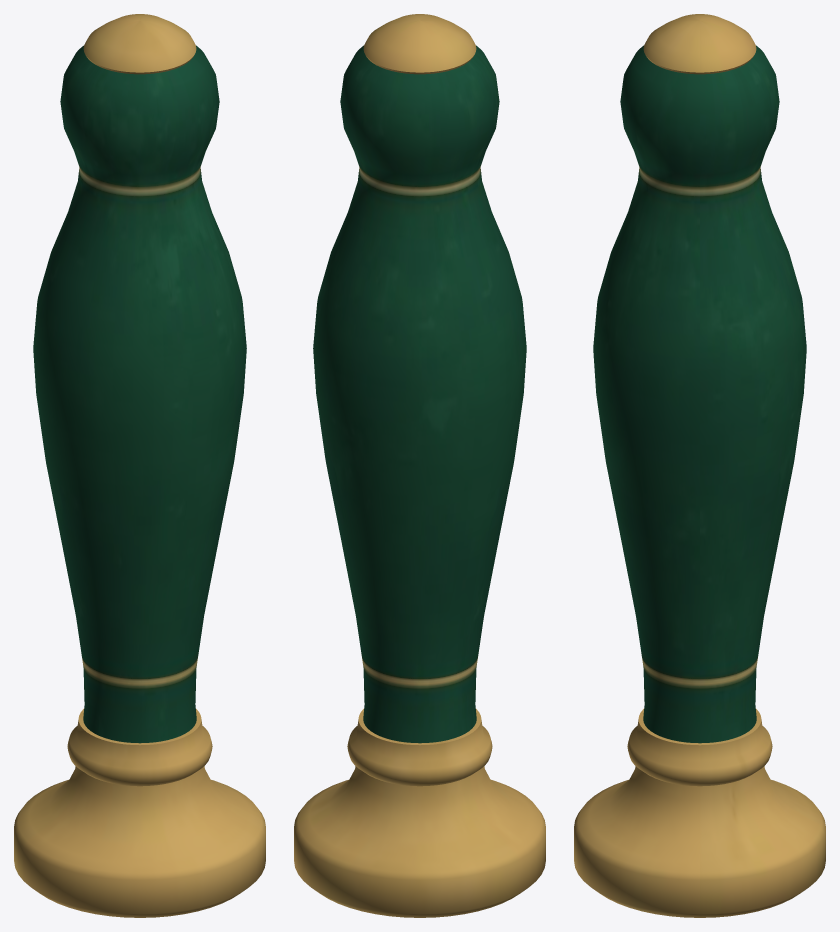
The model's file is SealStamp.glb.
3 renders of one model, left to right at view 1: azimuth 30°, elevation 25°; view 2: azimuth 150°, elevation 25°; view 3: azimuth 270°, elevation 25°, orthographic.
Visible parts, largest first — view 1: SealStamp_Handle, SealStamp_Brass; view 2: SealStamp_Handle, SealStamp_Brass; view 3: SealStamp_Handle, SealStamp_Brass.
Part boxes in pixels (bbox=[...]): SealStamp_Handle: bbox=[33, 45, 246, 743]; SealStamp_Brass: bbox=[14, 14, 265, 917]; SealStamp_Handle: bbox=[313, 45, 526, 743]; SealStamp_Brass: bbox=[294, 14, 545, 917]; SealStamp_Handle: bbox=[593, 45, 806, 743]; SealStamp_Brass: bbox=[574, 14, 825, 917].
Bounding box in the file's own units: 0.025 × 0.0929 × 0.025.
Materials: 2 (2 with a texture image).
